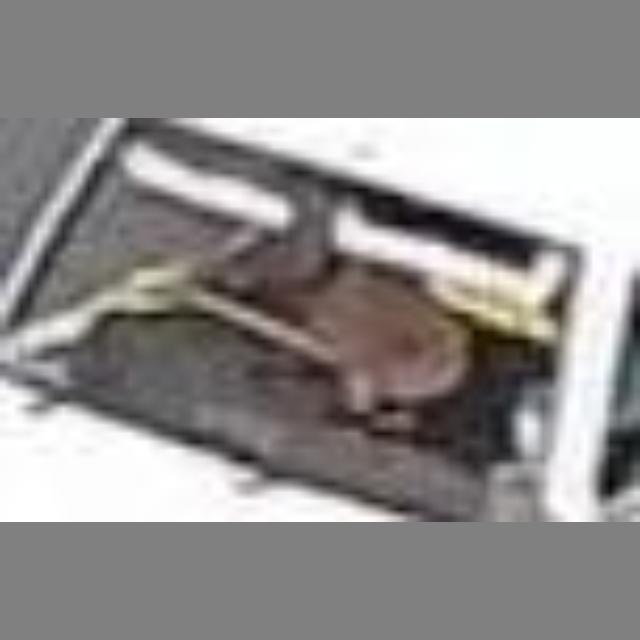tidak-pakai: (211, 236, 421, 430)
